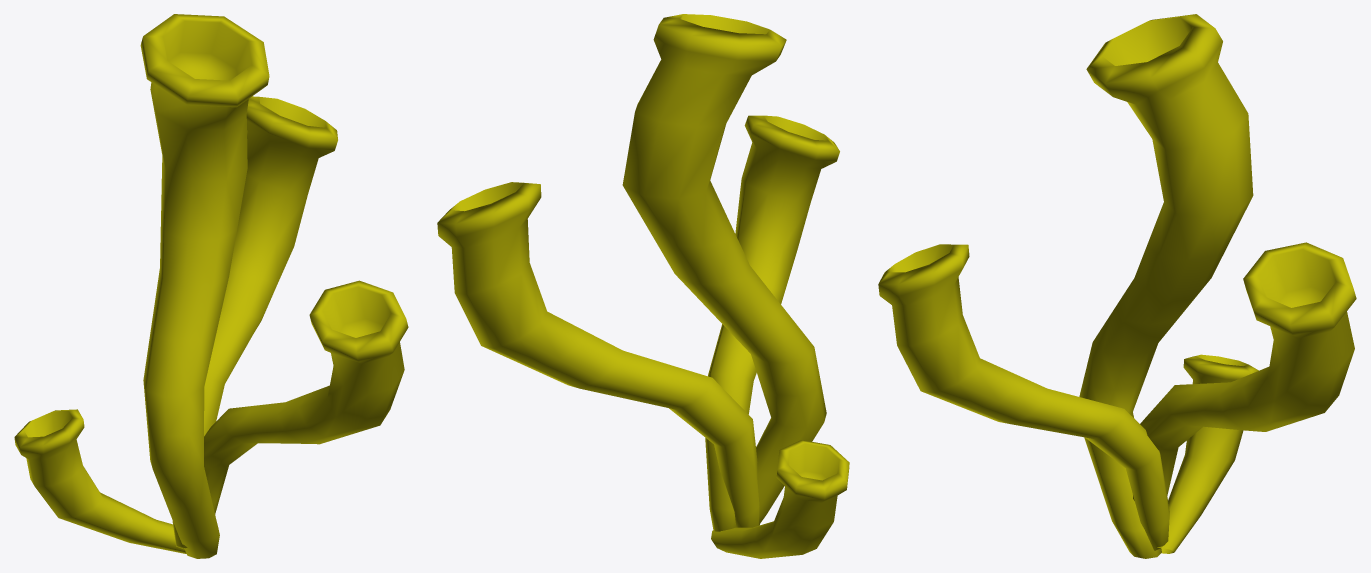
Rendered from yellow_coral.glb.
3 views of the same model, side by side, from view 1: azimuth 30°, elevation 25°; view 2: azimuth 150°, elevation 25°; view 3: azimuth 270°, elevation 25° (orthographic). The views are drawn at different scales.
Visible parts, largest first — view 1: node_id7; view 2: node_id7; view 3: node_id7.
Part boxes in pixels (x1,y1,x2,y2): node_id7: (14,14,408,558); node_id7: (437,14,849,558); node_id7: (878,14,1356,558).
Bounding box in the file's own units: 0.0247 × 0.0347 × 0.0283.
